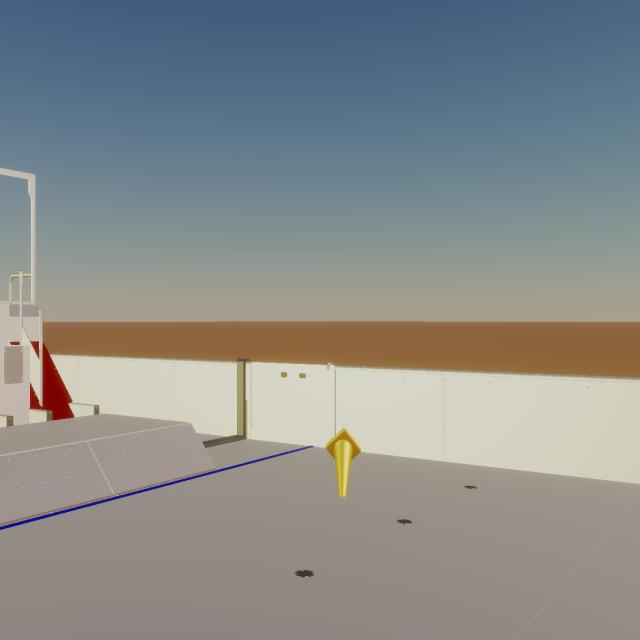frc_cone: (326, 428, 361, 496)
